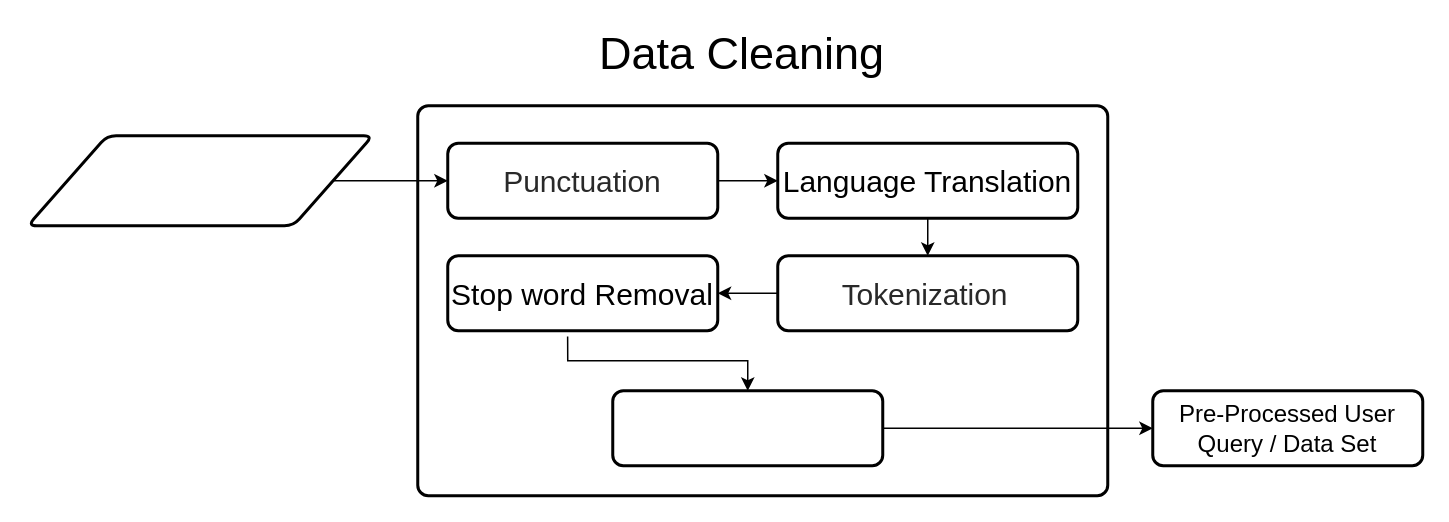
The diagram is 1449 pixels wide and 522 high, and some of its shapes have lost their labels. The shapes that lost their labels are listed below. From the top down, each one's centre as x and y in pixels, then its label:
(x=200, y=180): User Input / Data Set
(x=747, y=427): Lemmatize/ Stem
